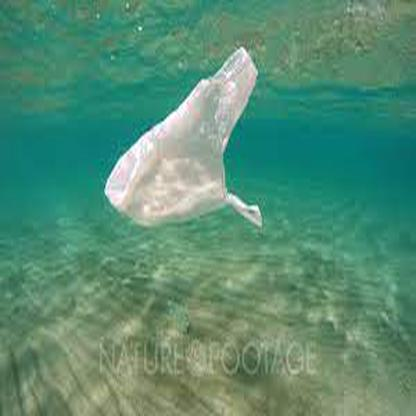plastic bag: (104, 45, 263, 232)
